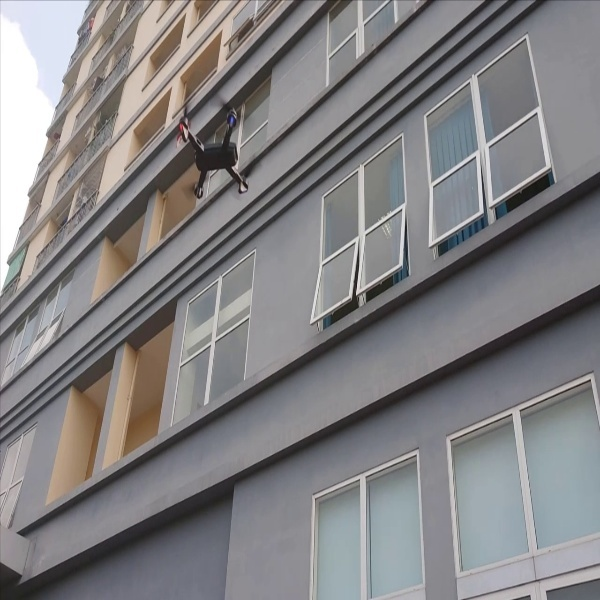drone: (172, 87, 262, 206)
